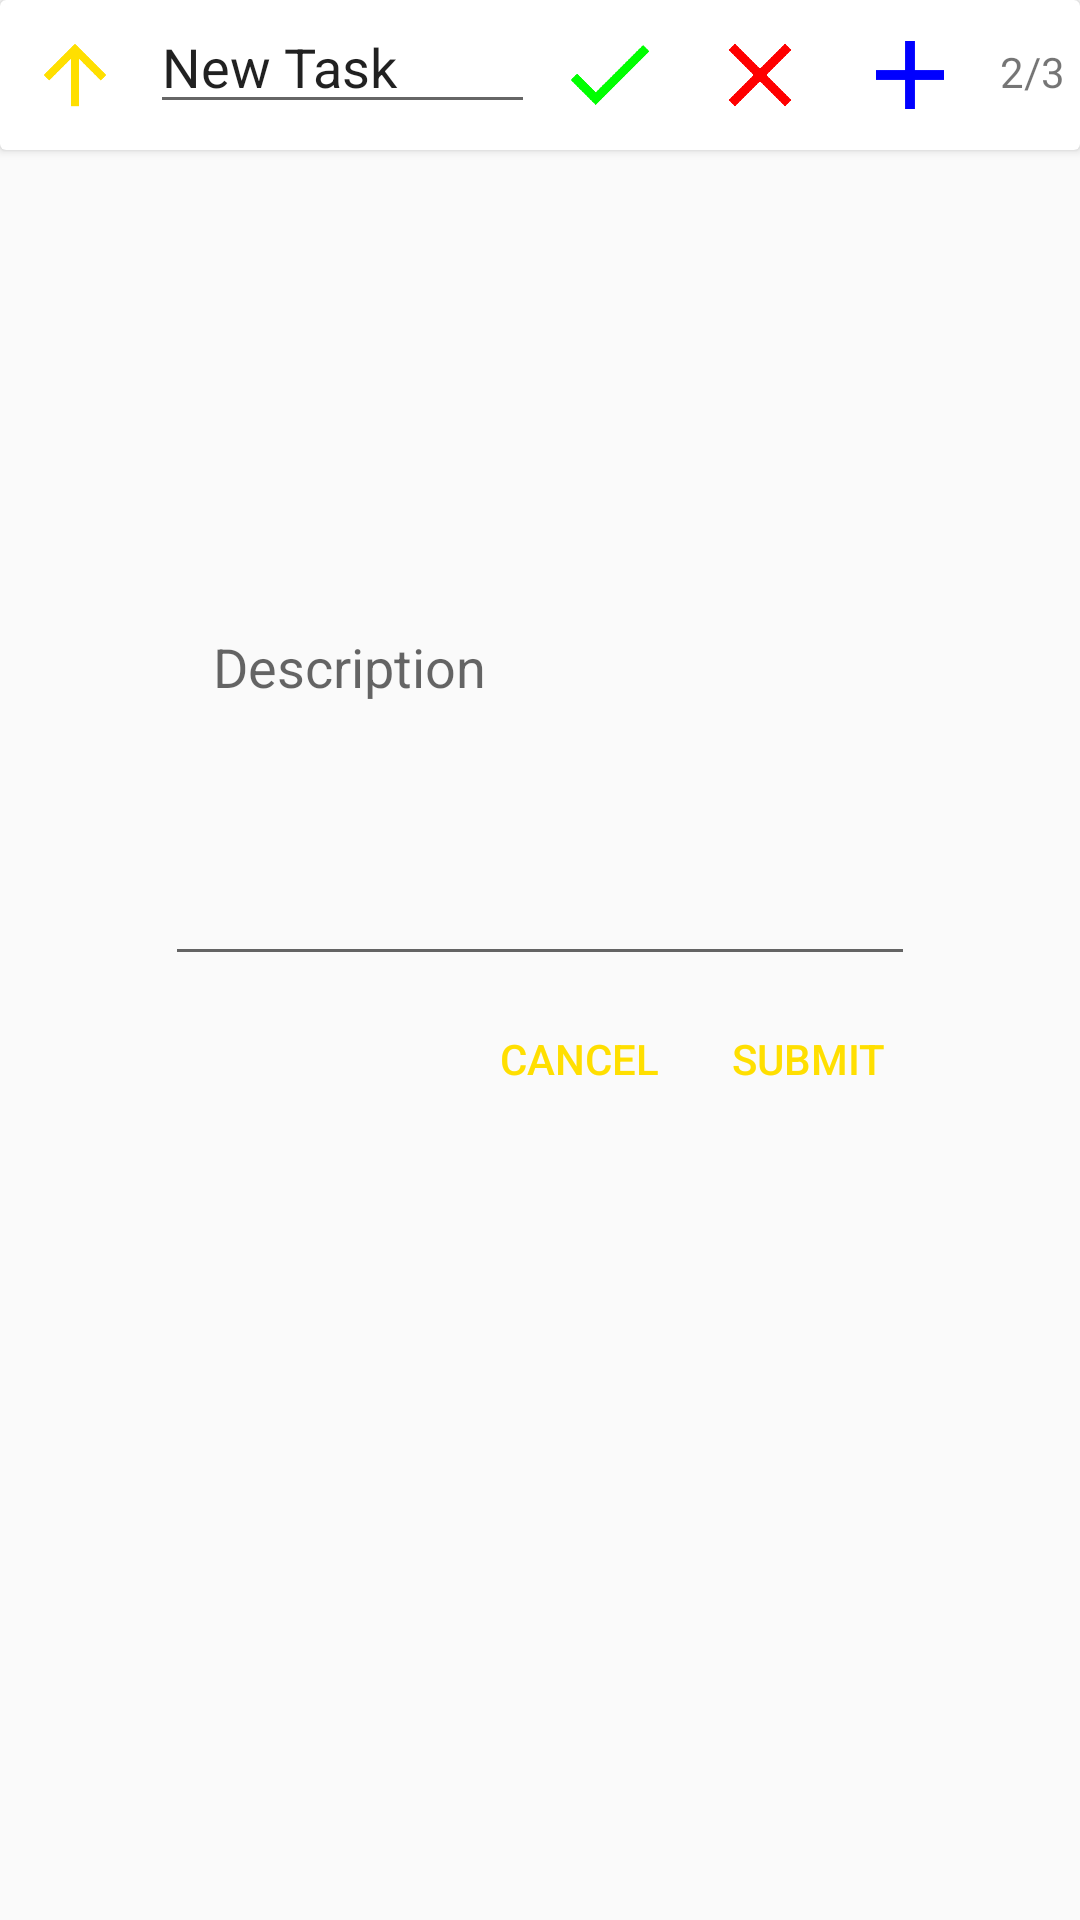

Named icons in this screenshot (1080 × 1920) and their centers, point (x, y):
check complete: point (610, 75)
delete: point (760, 75)
Go to Parent Task: point (75, 75)
plus child: point (910, 75)
